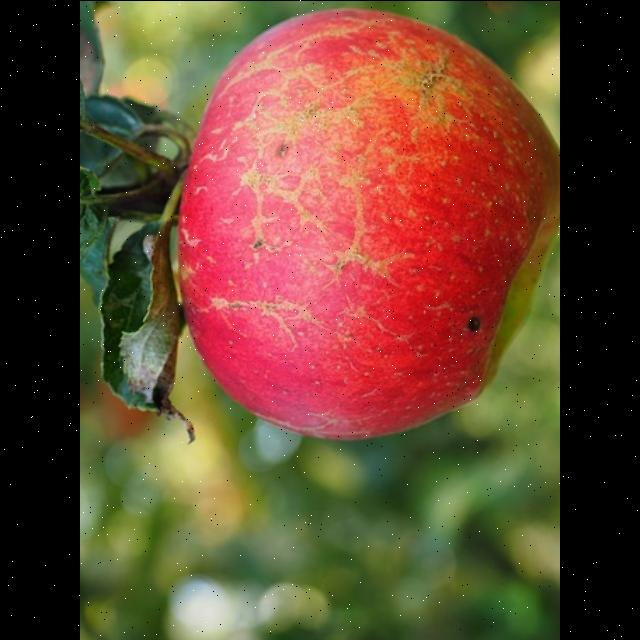Apel Segar: (150, 1, 560, 462)
